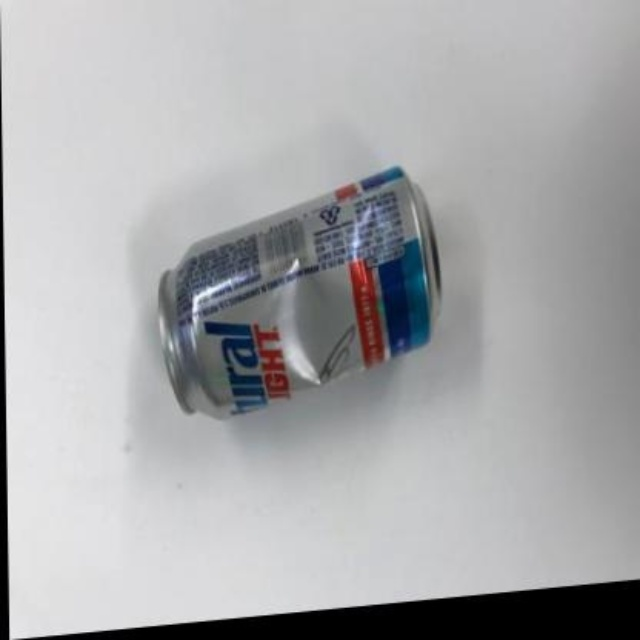trash: (158, 166, 438, 417)
